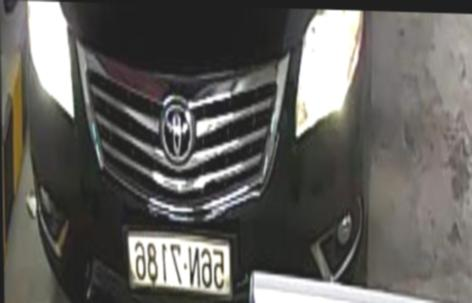License_Plate: (117, 224, 235, 294)
